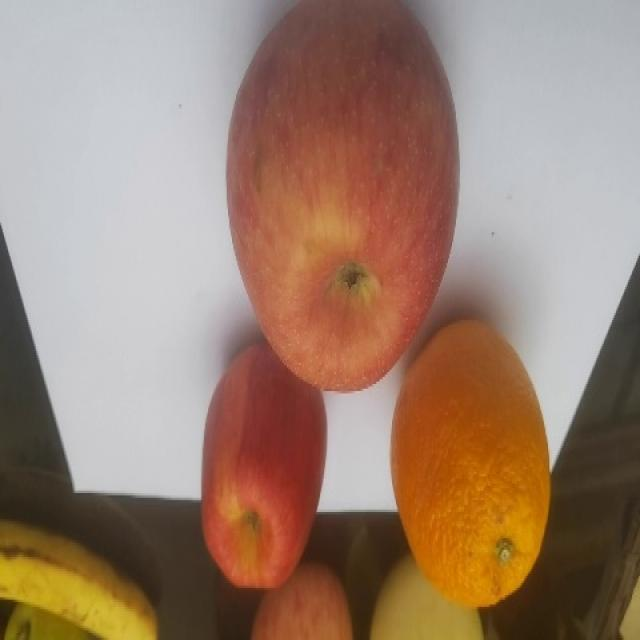Apple: (225, 0, 460, 392), (200, 341, 327, 589), (249, 561, 354, 639)
Banana: (0, 518, 159, 639)
Orange: (389, 317, 552, 609)
